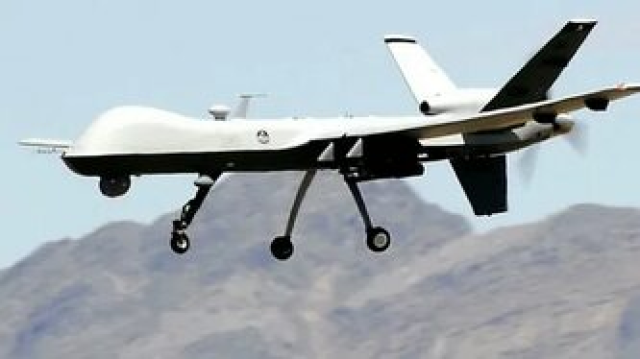military drone: (18, 18, 640, 260)
